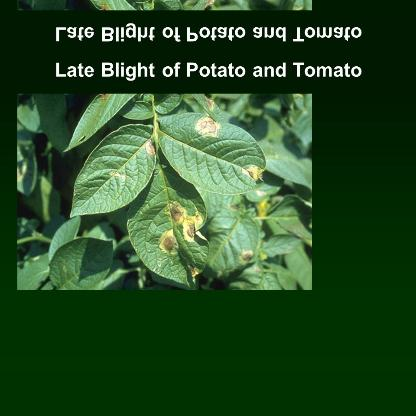Late-Blight: (32, 88, 310, 290)
